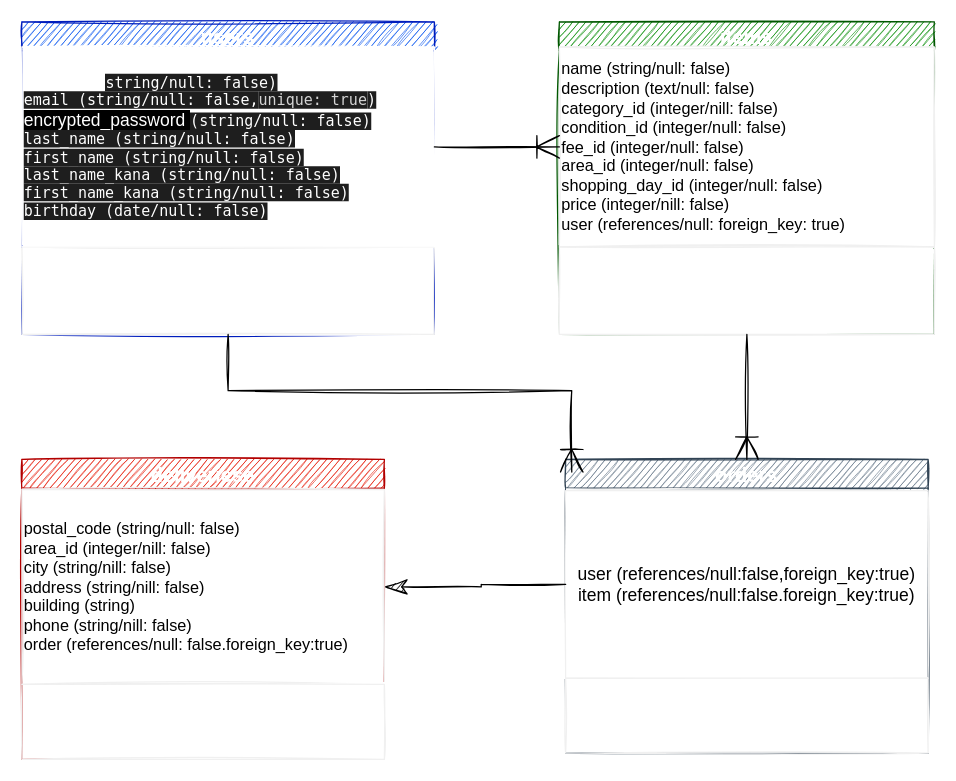
This 956x781 diagram has some shape labels left out. The centre of each missing label's shape, as x and y in pixels:
belongs_to : order: the point at 202,721
belongs_to : user has_many : orders: the point at 746,290
has_many : items has_many : orders: the point at 227,290
has_one : delivery belongs_to : user: the point at 746,715
